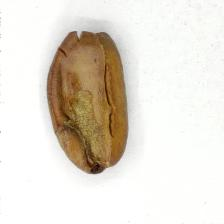NG: (54, 32, 116, 171)
